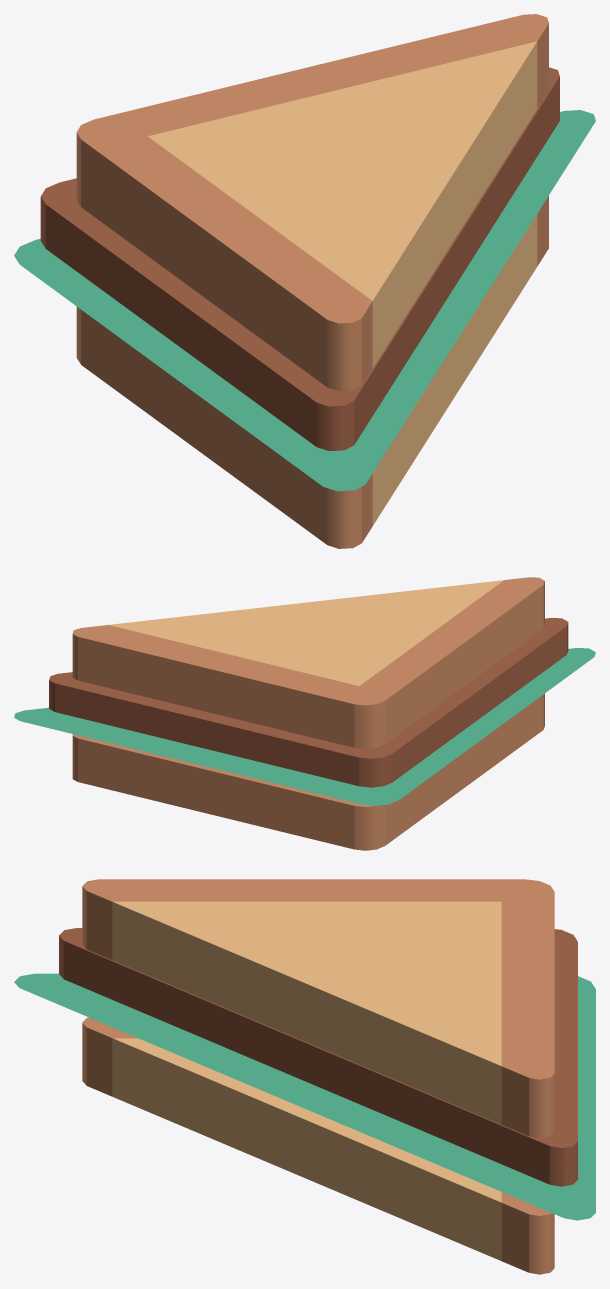
Rendered from sandwich.fbx.
3 renders of one model, top to bottom at view 1: azimuth 30°, elevation 25°; view 2: azimuth 150°, elevation 25°; view 3: azimuth 270°, elevation 25°, orthographic. The views are drawn at different scales.
Parts seen in each view (by area): view 1: sandwich, meat, lettuce; view 2: sandwich, meat, lettuce; view 3: sandwich, meat, lettuce.
Part boxes in pixels (<box>): sandwich: <box>76,14,548,548</box>; meat: <box>40,67,559,451</box>; lettuce: <box>14,110,595,491</box>; sandwich: <box>72,577,544,850</box>; meat: <box>49,618,568,787</box>; lettuce: <box>14,648,595,805</box>; sandwich: <box>82,879,554,1274</box>; meat: <box>59,928,577,1186</box>; lettuce: <box>14,973,595,1220</box>.
Bounding box in the file's own units: 4.34 × 1.6 × 4.32.
